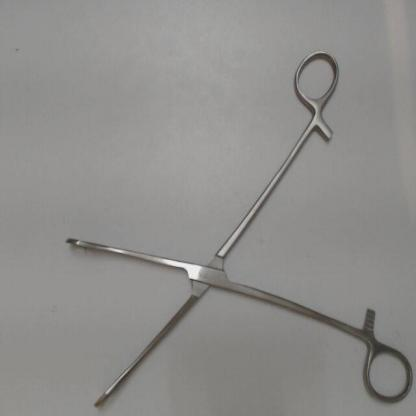Sponge Forceps: (51, 38, 415, 411)
